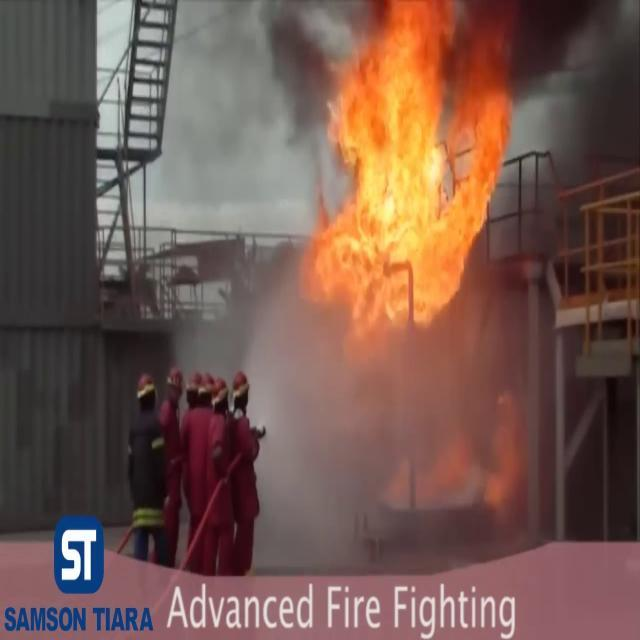Fire: (305, 1, 521, 350)
